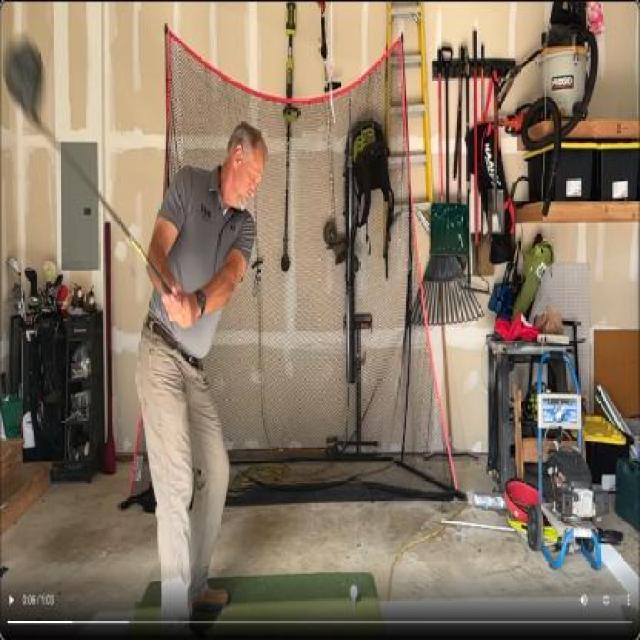club head: (2, 28, 48, 128)
